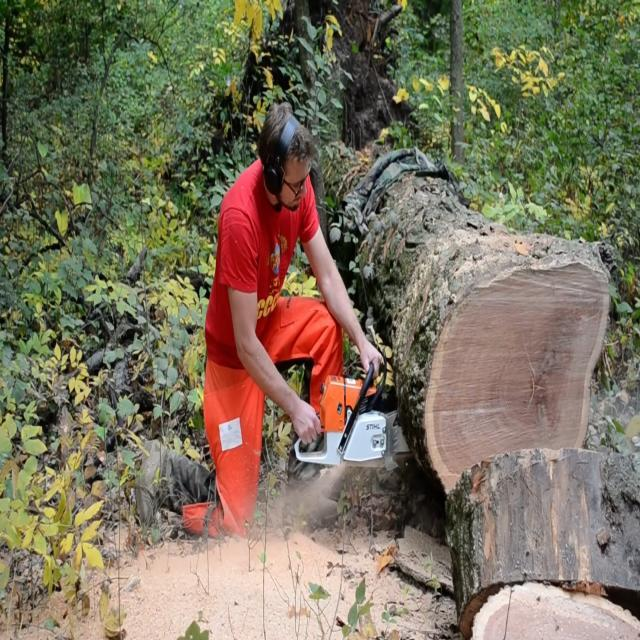Chainsaw: (275, 338, 432, 474)
